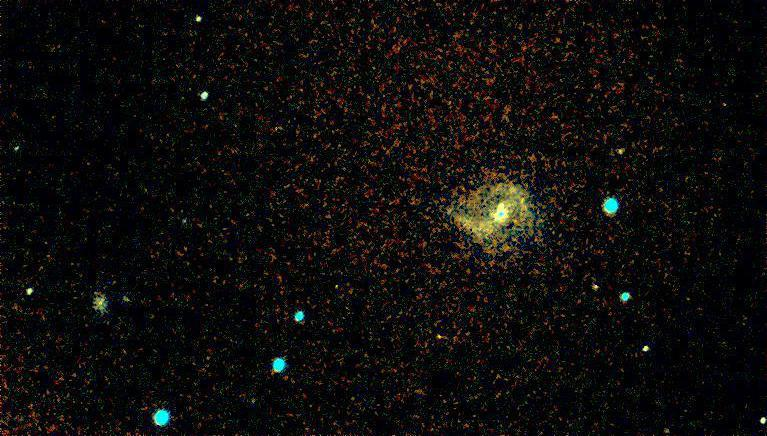star: (425, 320, 455, 350)
